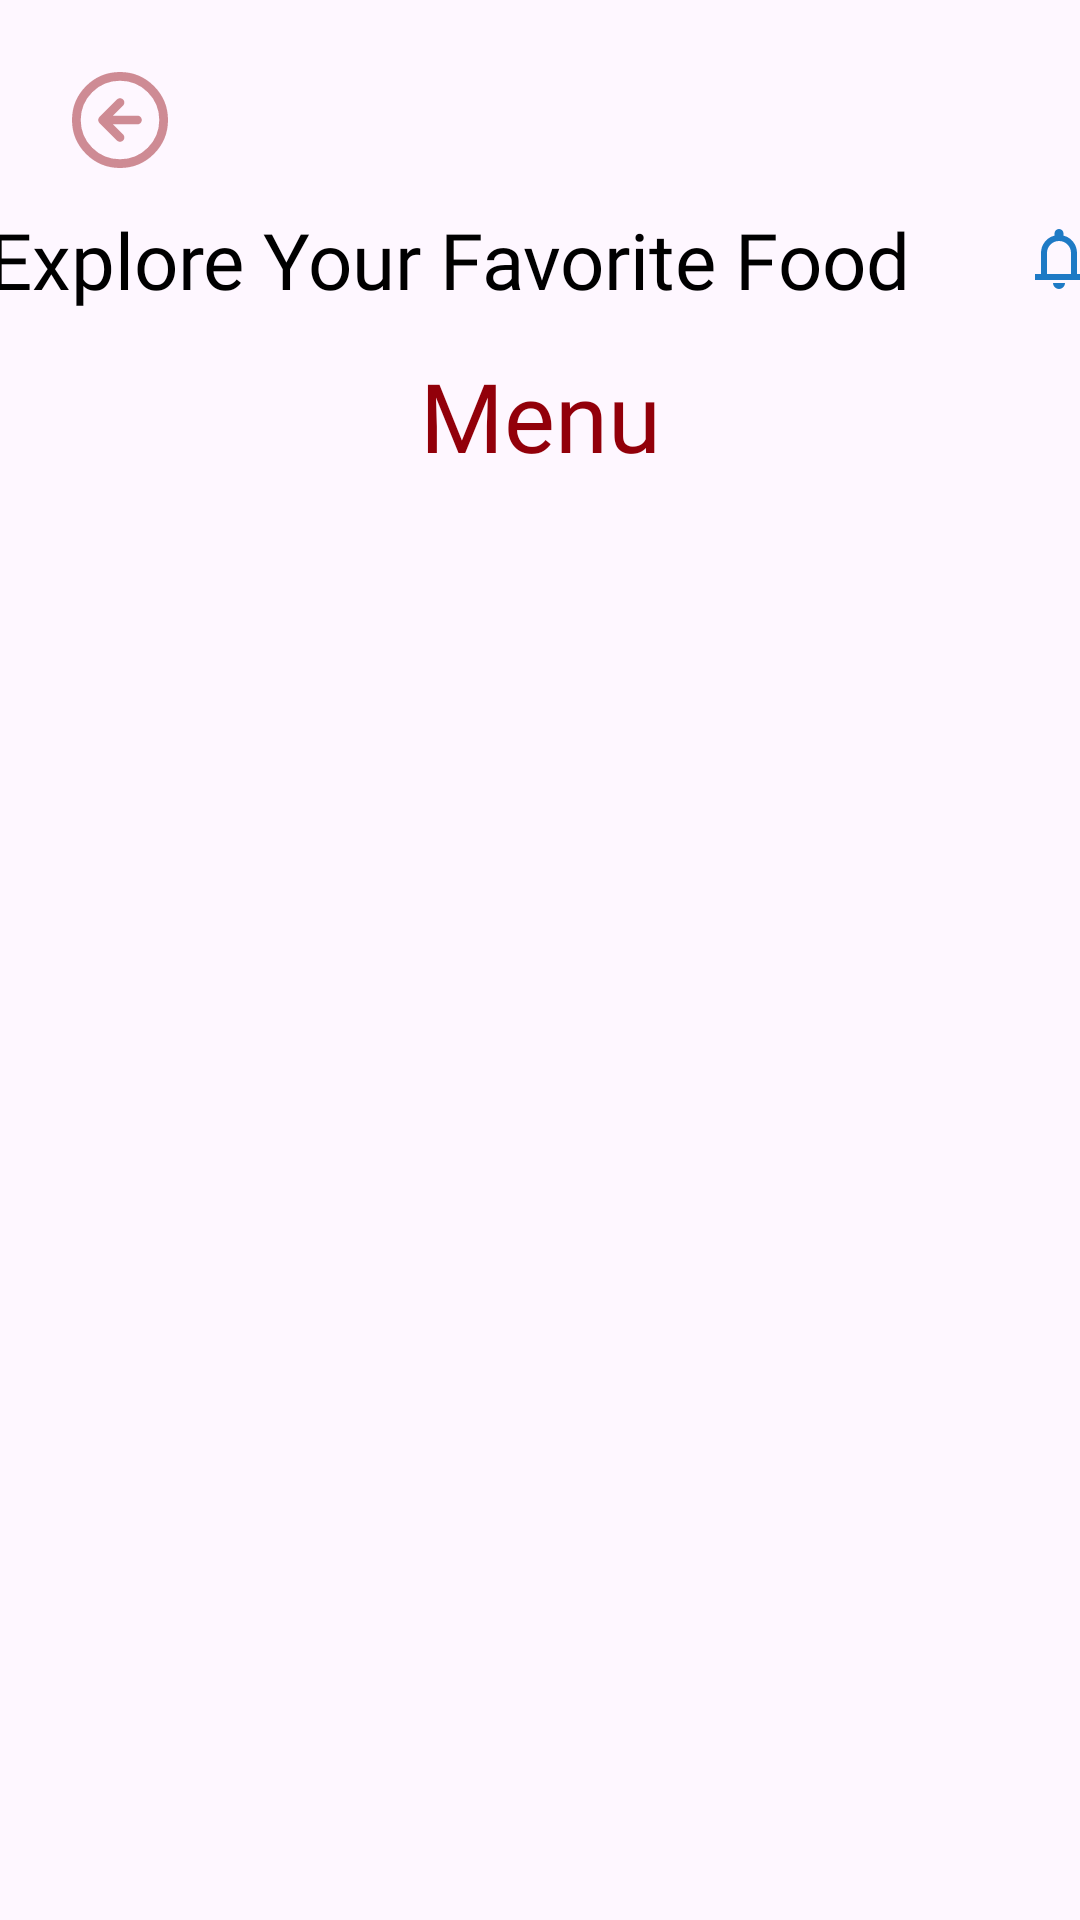

Screen size 1080*1920. Icon name, then its box in pixels as (x1, y1, x2, y2):
back: (72, 72, 168, 168)
